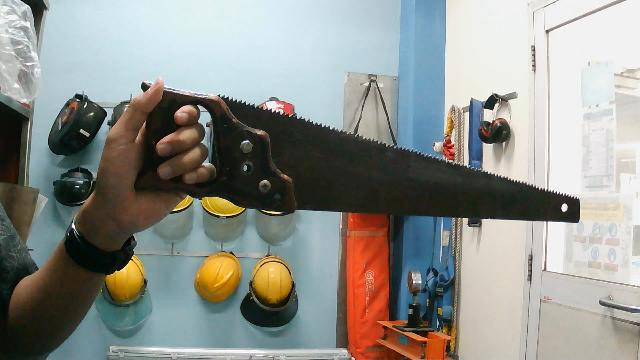gergaji_kayu: (115, 76, 589, 230)
